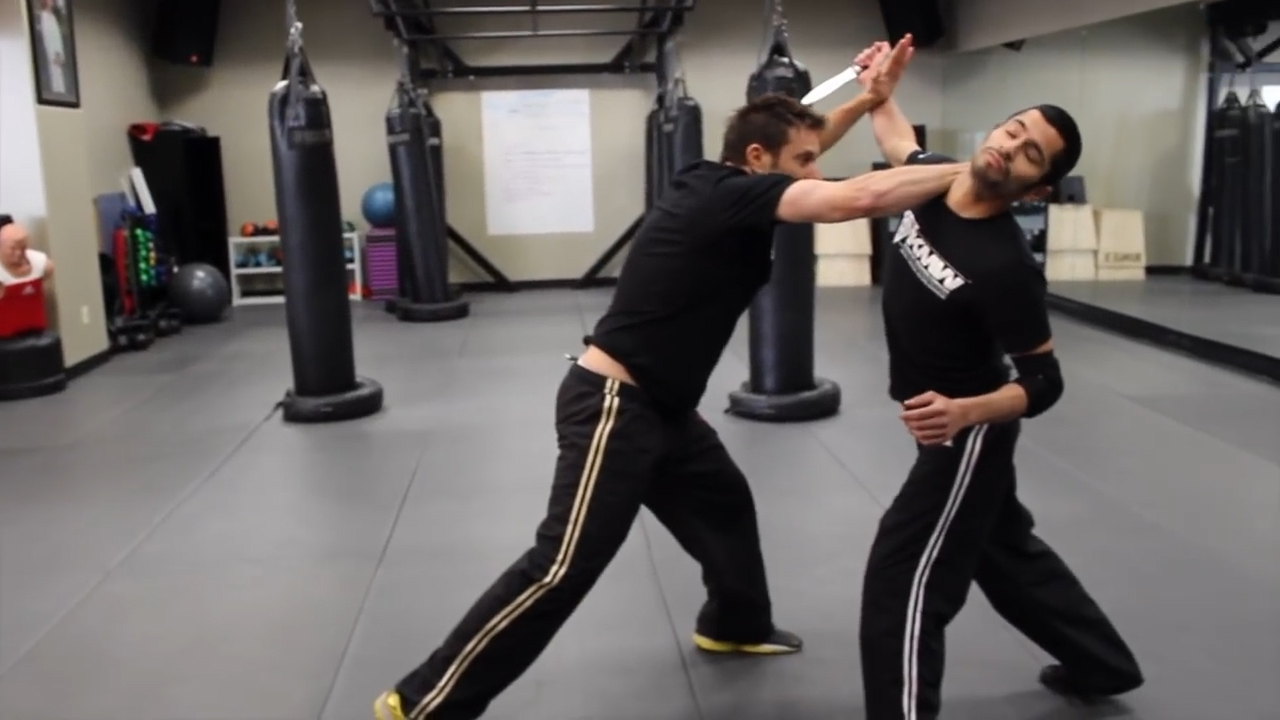knife: (795, 36, 897, 108)
